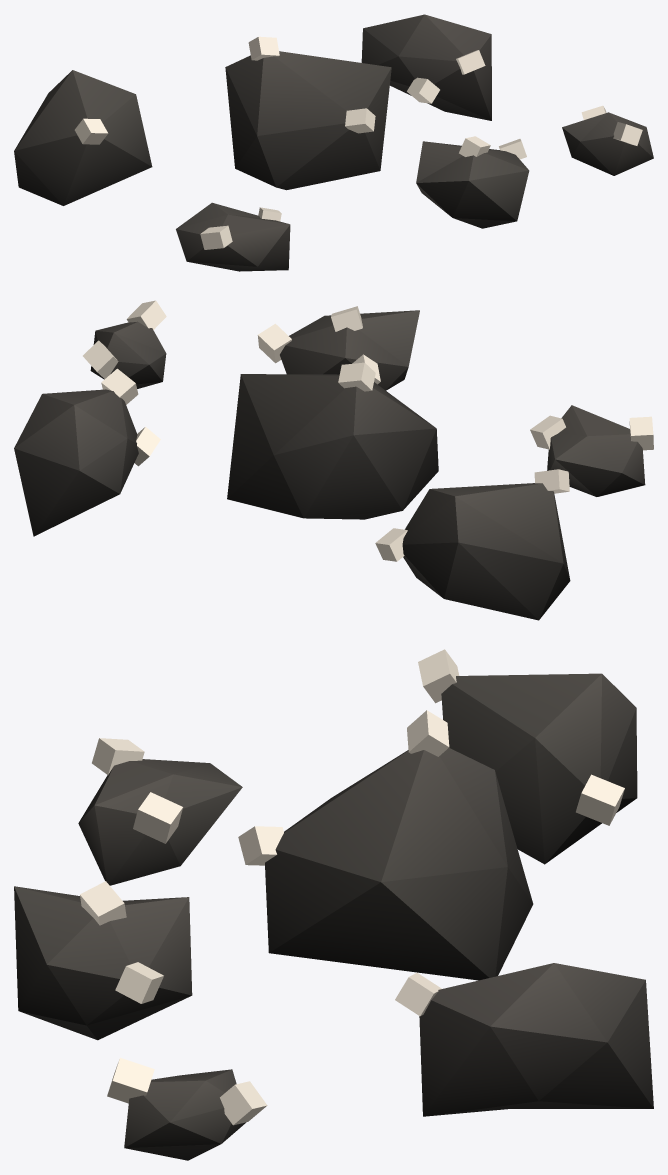
File: SM_VKI_Overlay_Debris_Ore.fbx
3 views of the same model, one above another, from view 1: azimuth 30°, elevation 25°; view 2: azimuth 150°, elevation 25°; view 3: azimuth 270°, elevation 25° (orthographic). The views are drawn at different scales.
Visible parts, largest first — view 1: SM_VKI_Overlay_Debris_Ore.001; view 2: SM_VKI_Overlay_Debris_Ore.001; view 3: SM_VKI_Overlay_Debris_Ore.001.
Part boxes in pixels (x1=…): SM_VKI_Overlay_Debris_Ore.001: x1=14, y1=14, x2=653, y2=271; SM_VKI_Overlay_Debris_Ore.001: x1=14, y1=300, x2=653, y2=620; SM_VKI_Overlay_Debris_Ore.001: x1=14, y1=649, x2=653, y2=1160.
Size of the model in its own units: 0.6239 by 0.17 by 0.4192.
